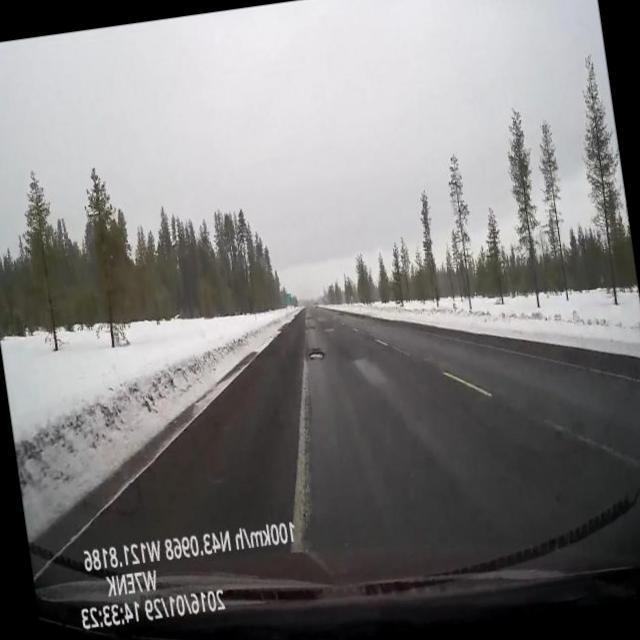Pothole: (309, 352, 324, 359)
